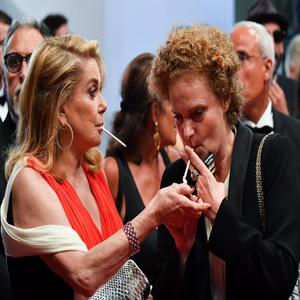cigarette: (101, 125, 127, 149), (181, 146, 193, 185)
